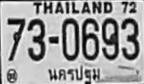0: (61, 17, 78, 60)
3: (27, 18, 45, 60), (120, 17, 138, 59)
6: (81, 17, 98, 59)
7: (6, 17, 24, 60)
9: (101, 17, 118, 59)
NPT: (46, 64, 102, 84)
